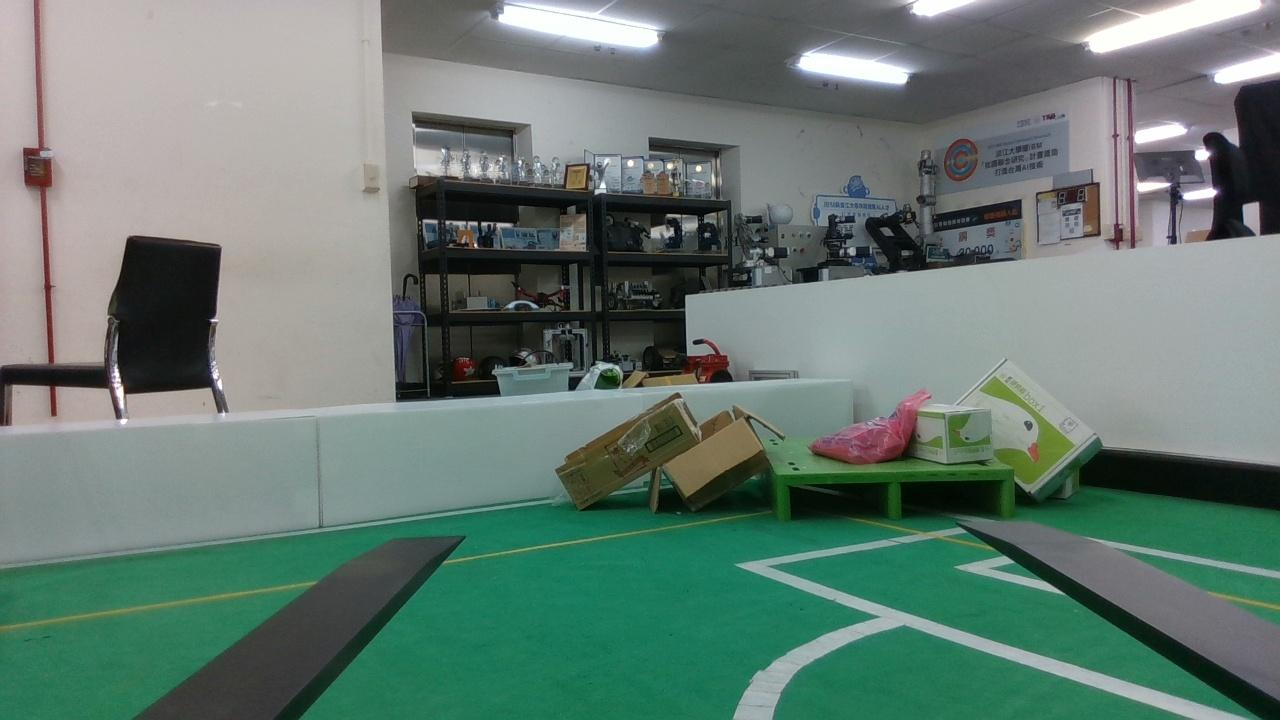Pallet: (776, 465, 1017, 521)
